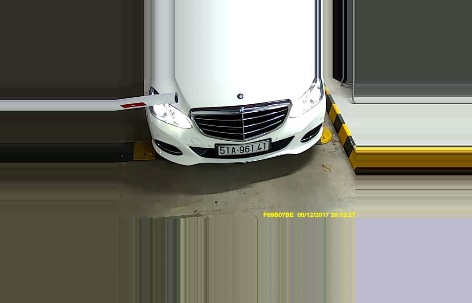plate: (216, 142, 270, 159)
